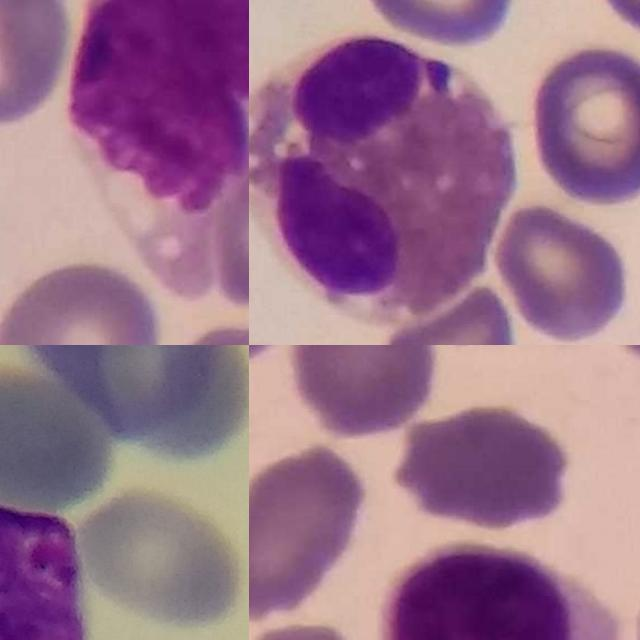Eosinophil: (249, 37, 512, 316)
Lymphocyte: (379, 539, 625, 640)
Monocyte: (66, 0, 249, 307)
